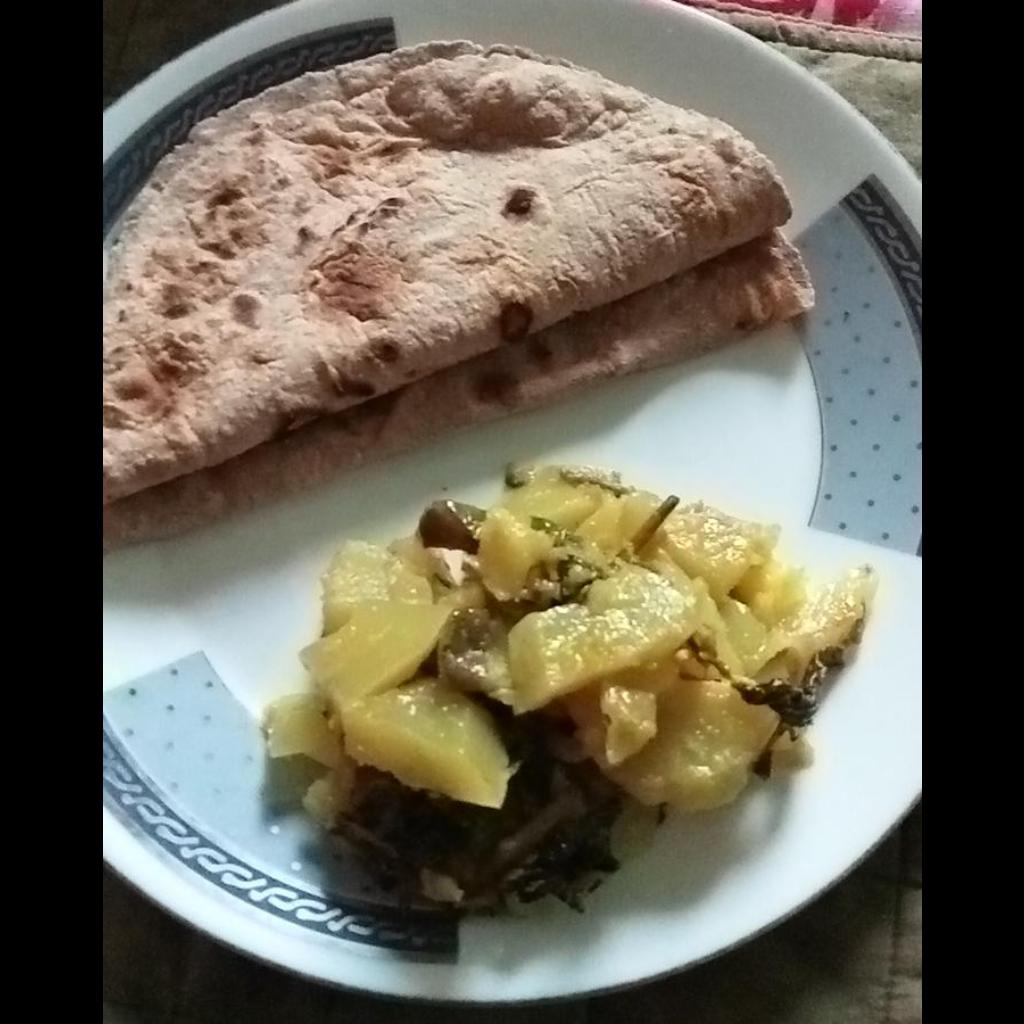ruti: (102, 40, 816, 548)
vegetable: (254, 466, 875, 907)
